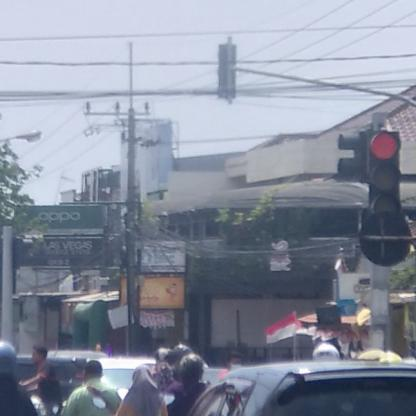red: (365, 129, 402, 228)
